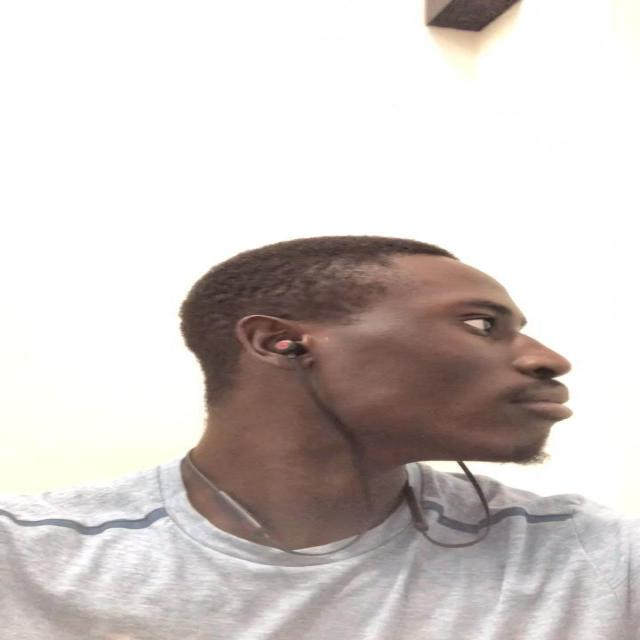face: (284, 256, 574, 466)
